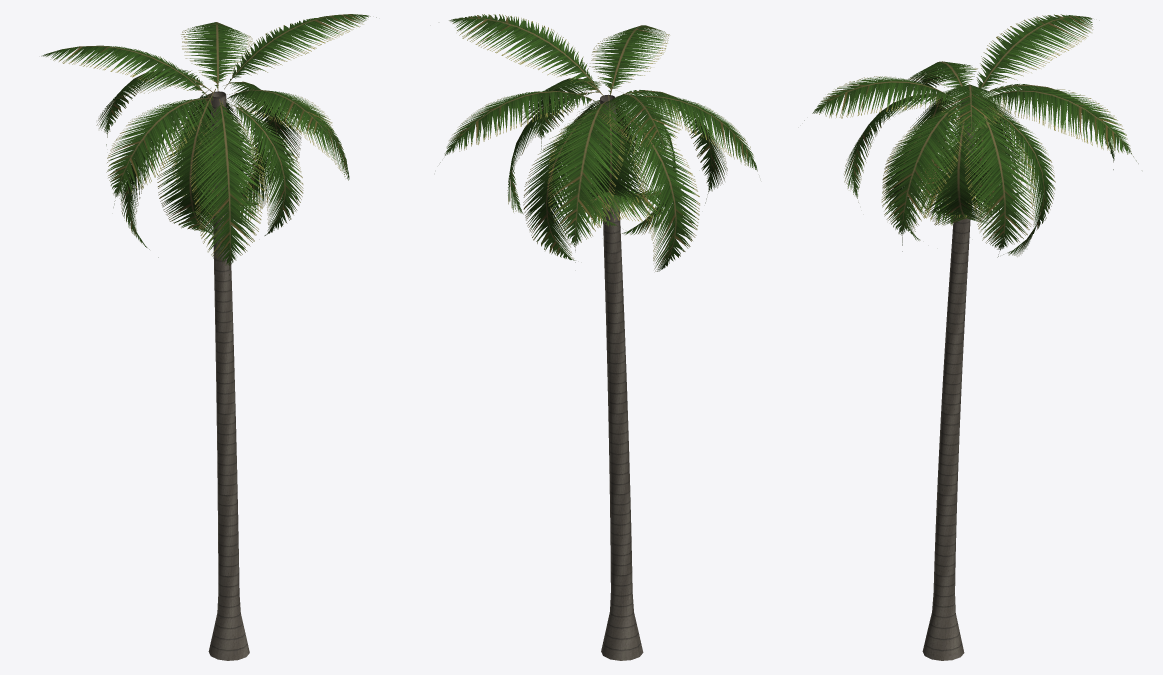
Rendered from palm_tall.glb.
3 renders of one model, left to right at view 1: azimuth 30°, elevation 25°; view 2: azimuth 150°, elevation 25°; view 3: azimuth 270°, elevation 25°, orthographic. The views are drawn at different scales.
Parts seen in each view (by area): view 1: palm_tall; view 2: palm_tall; view 3: palm_tall.
Boxes of the visible parts, left/top/right/bottom form: palm_tall: left=41, top=14, right=376, bottom=660; palm_tall: left=440, top=14, right=757, bottom=660; palm_tall: left=804, top=14, right=1138, bottom=660.
Size of the model in its own units: 6.55 by 12.01 by 6.4.
2 materials, 2 textured.
